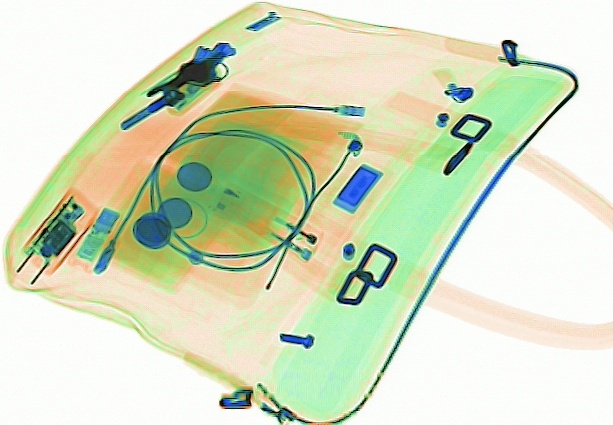lighter: (212, 178, 326, 265)
